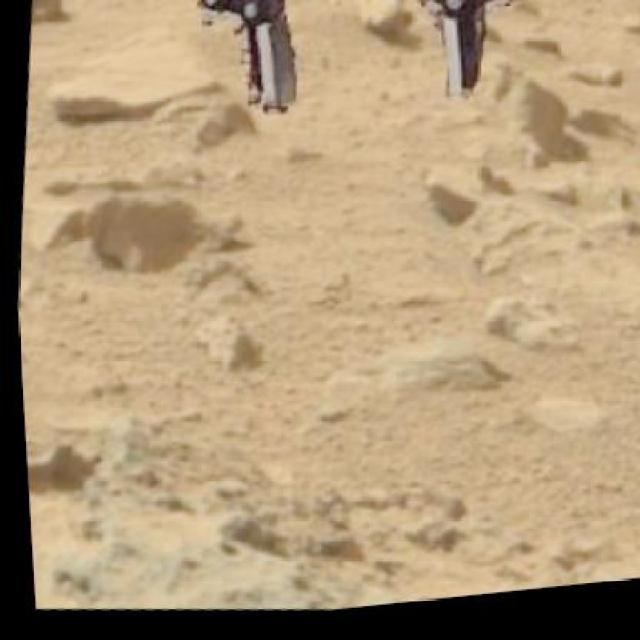rock: (18, 364, 638, 640), (32, 5, 220, 140), (72, 176, 220, 295), (320, 0, 434, 57)
